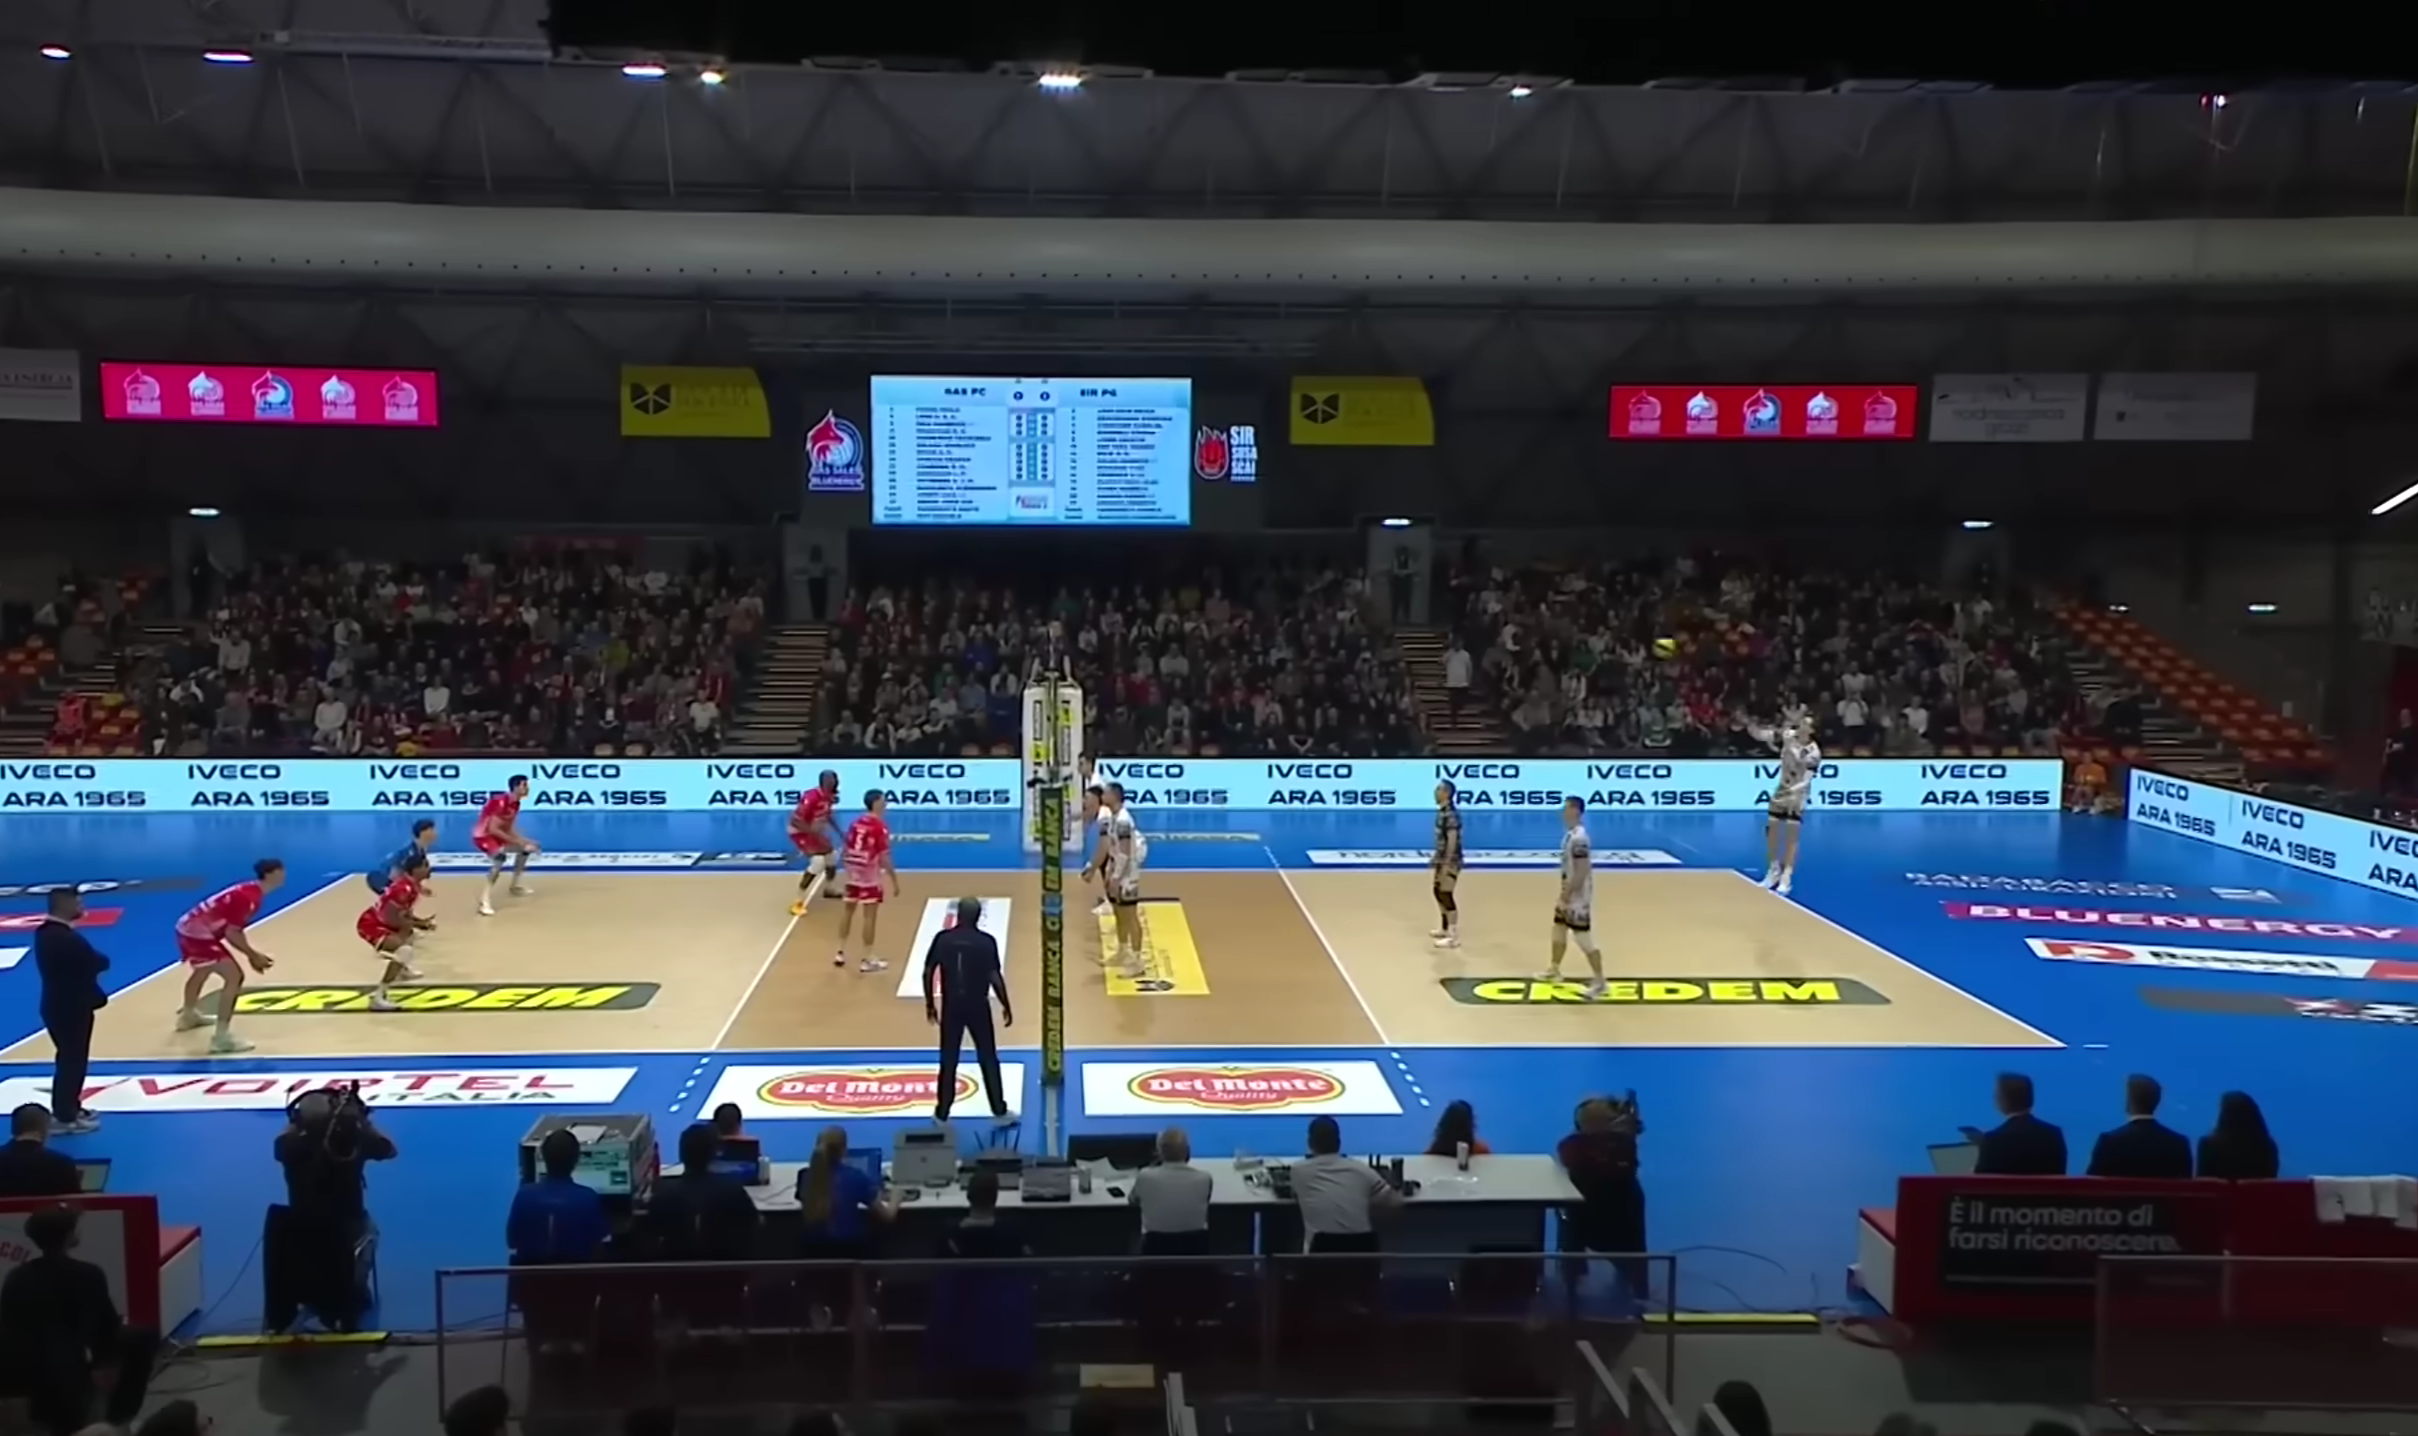Ball: (1649, 634, 1678, 662)
